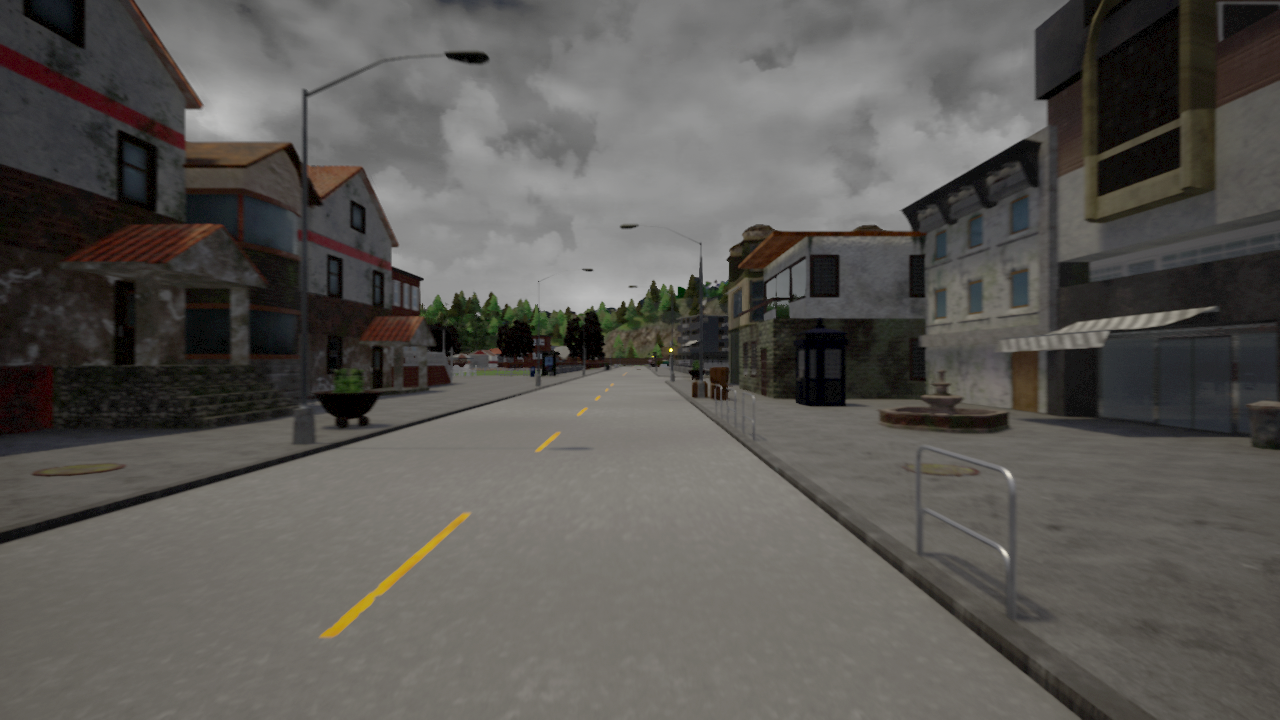yellow: (668, 344, 673, 355)
